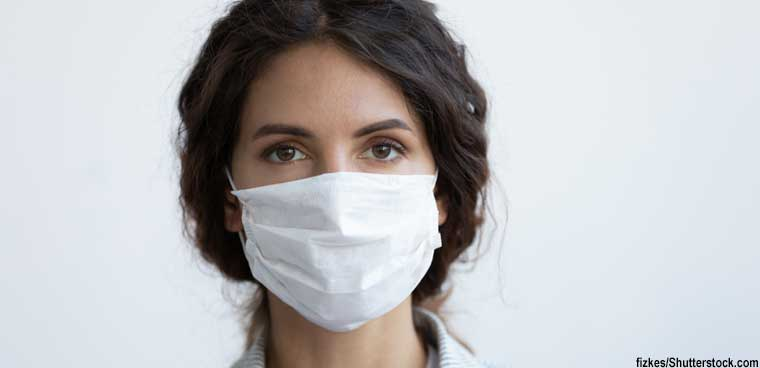with_mask: (219, 24, 450, 321)
